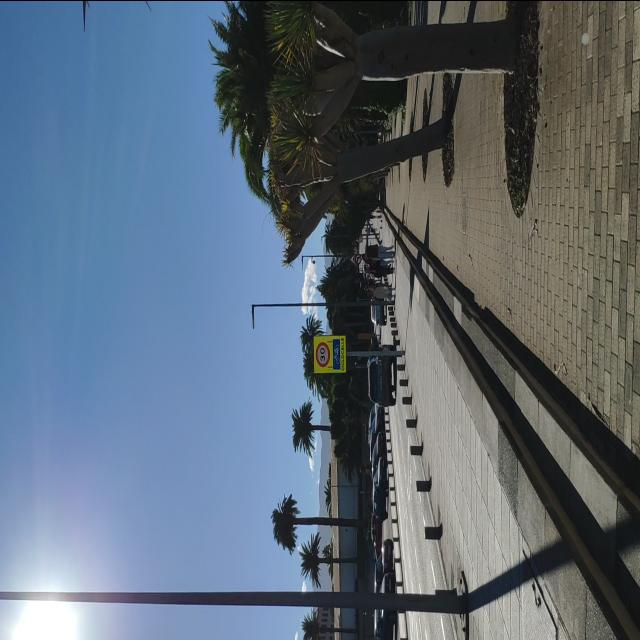Palm-Trees: (270, 491, 360, 550), (300, 533, 358, 587), (291, 400, 331, 456), (301, 606, 356, 640)
